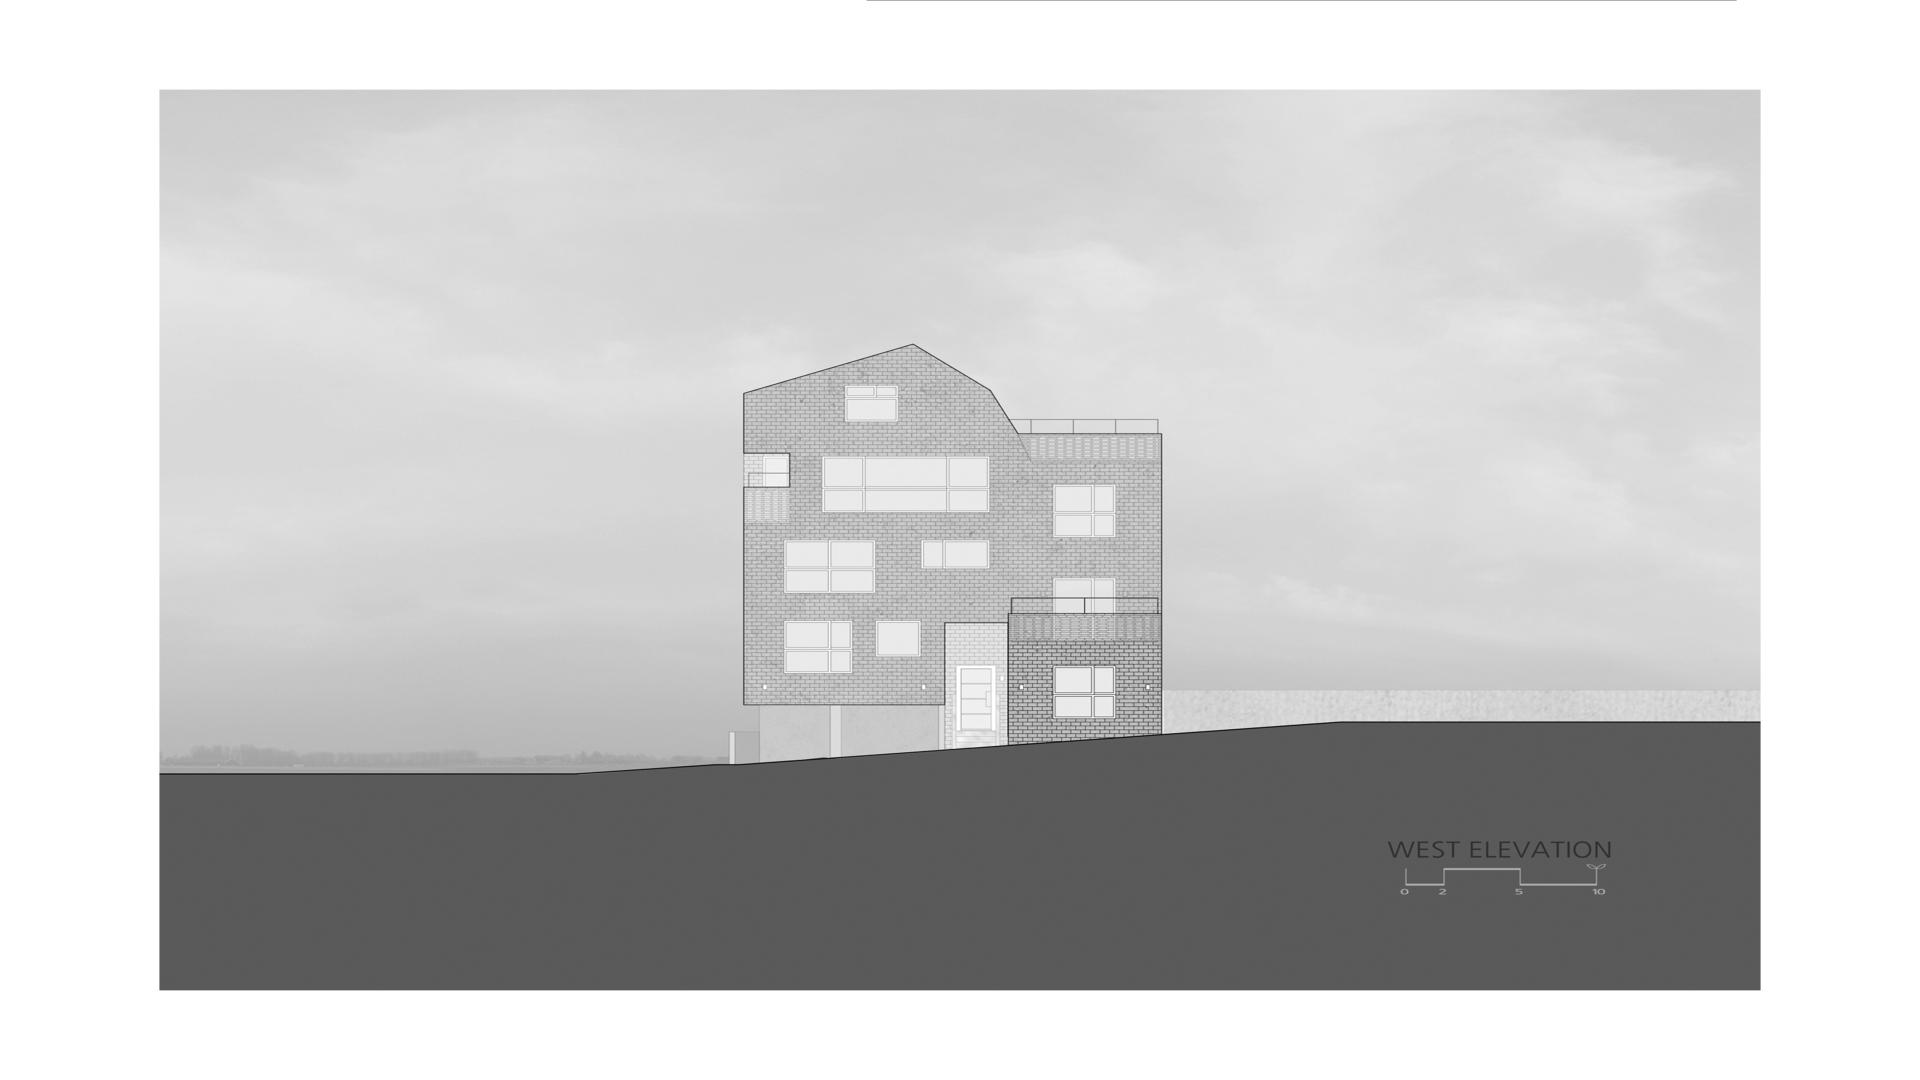door: (956, 665, 996, 731), (764, 456, 790, 488)
wall: (729, 343, 1162, 765)
window: (823, 456, 989, 488), (823, 488, 989, 513), (1054, 578, 1116, 640), (1052, 666, 1116, 719), (783, 541, 876, 568), (783, 568, 876, 593), (920, 539, 990, 570), (783, 621, 852, 649), (783, 649, 852, 674), (1054, 485, 1116, 513), (876, 621, 922, 657), (1054, 513, 1116, 538), (845, 397, 898, 422), (845, 385, 898, 397)
